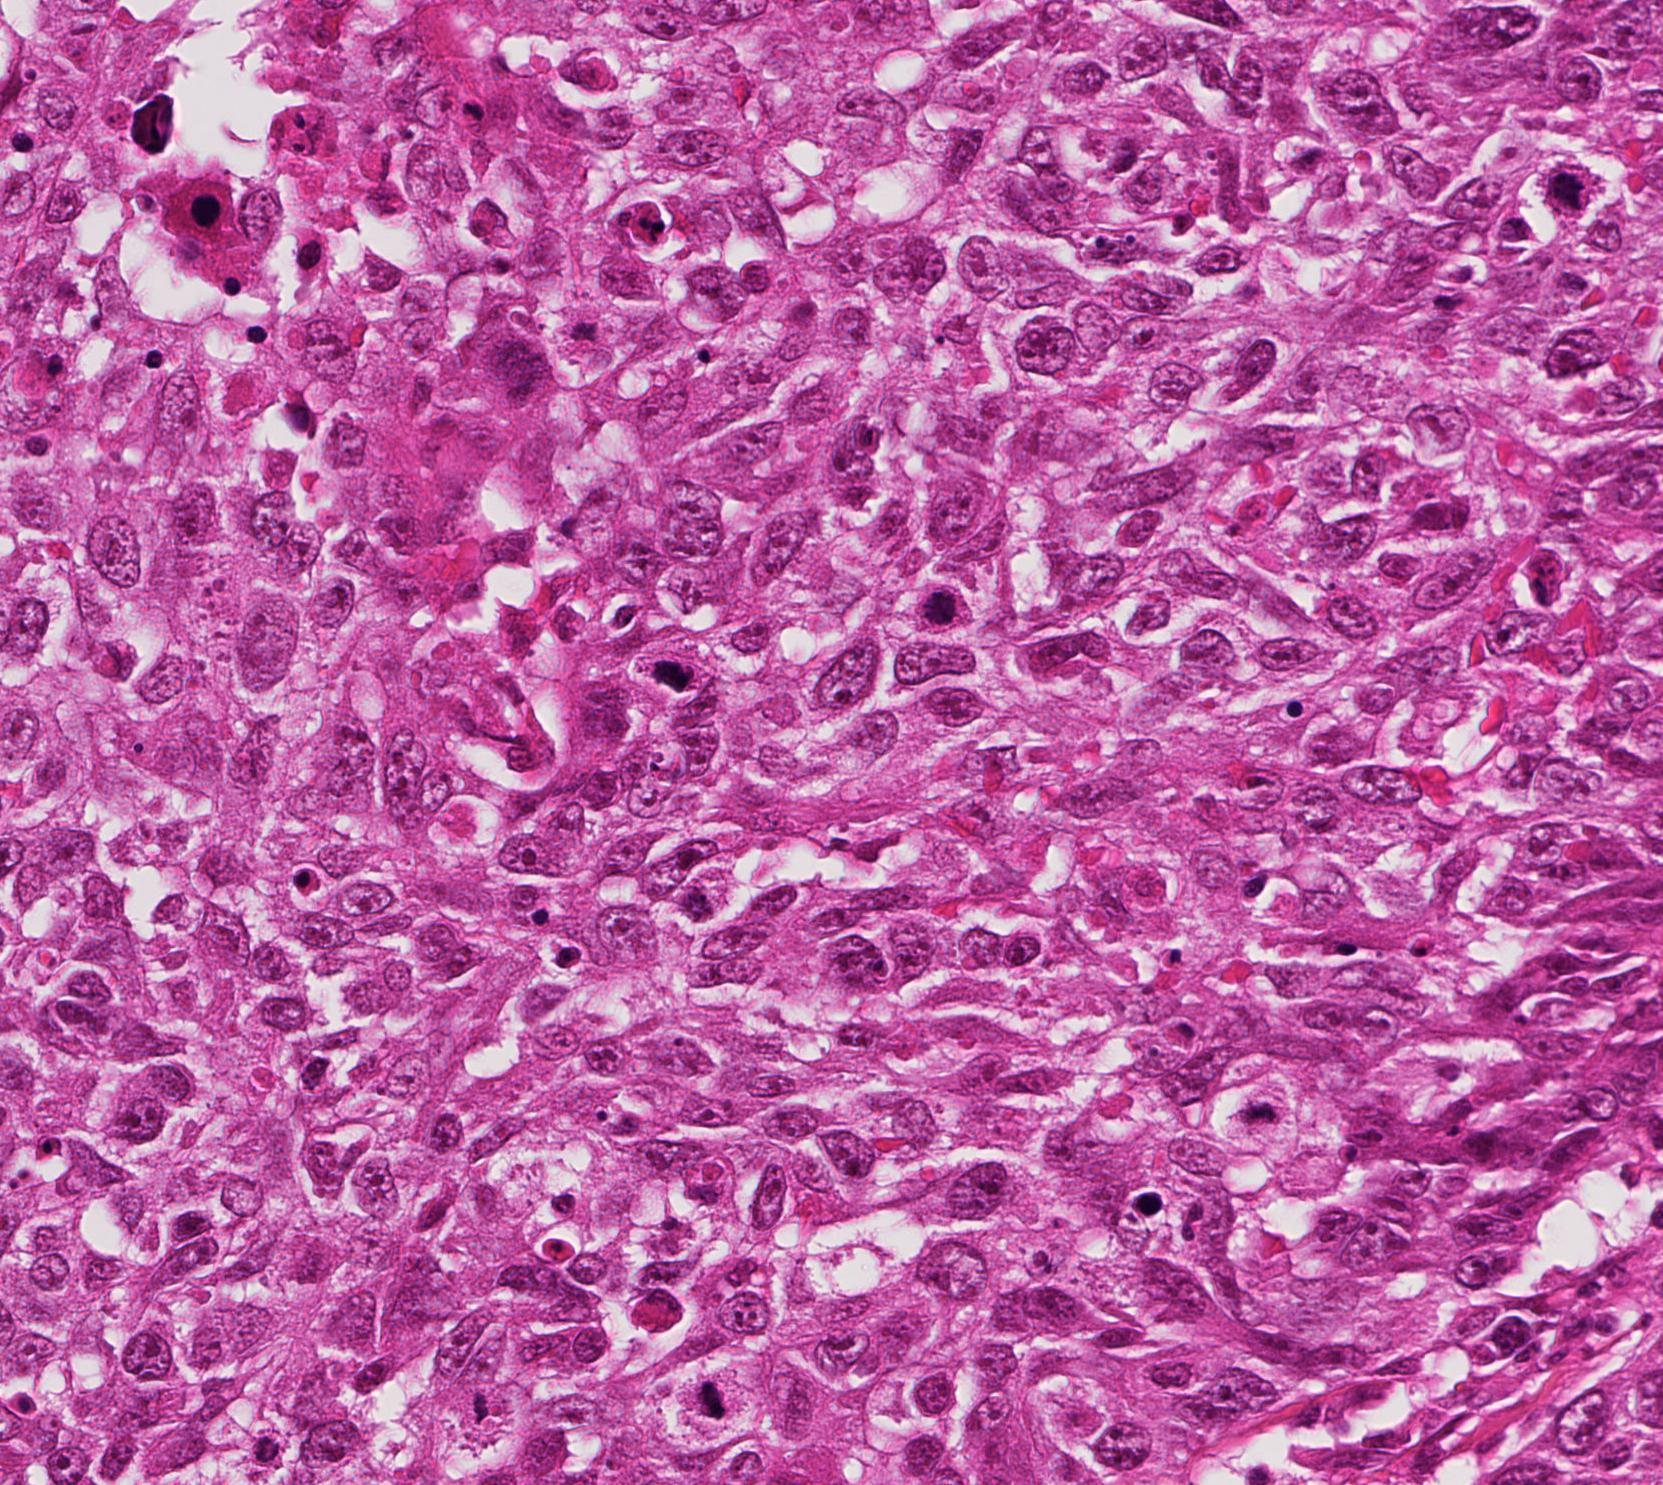mitosis: (910, 572, 971, 632), (443, 1373, 503, 1433), (682, 1365, 743, 1425)
